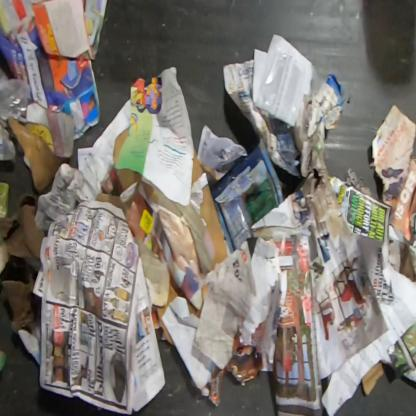cardboard: (157, 143, 229, 282), (0, 190, 49, 334), (7, 115, 65, 193), (114, 128, 142, 192), (362, 362, 384, 396)
soft_plastic: (0, 65, 32, 166)
